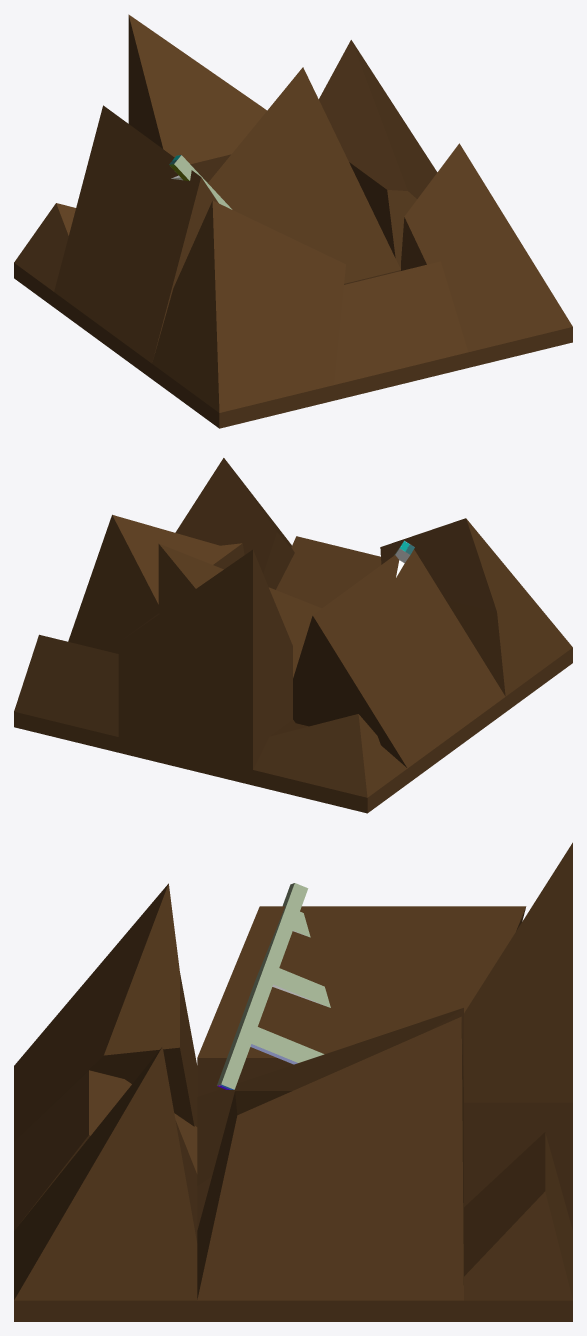
Rendered from Plataforma1.fbx.
3 renders of one model, top to bottom at view 1: azimuth 30°, elevation 25°; view 2: azimuth 150°, elevation 25°; view 3: azimuth 270°, elevation 25°, orthographic. The views are drawn at different scales.
Visible parts, largest first — view 1: Cube.006; view 2: Cube.006; view 3: Cube.006.
Part boxes in pixels (x1,y1,x2,y2): Cube.006: (14, 14, 572, 428); Cube.006: (14, 458, 572, 813); Cube.006: (14, 842, 572, 1321).
Bounding box in the file's own units: 988 × 631 × 995.
1 material, 1 textured.
